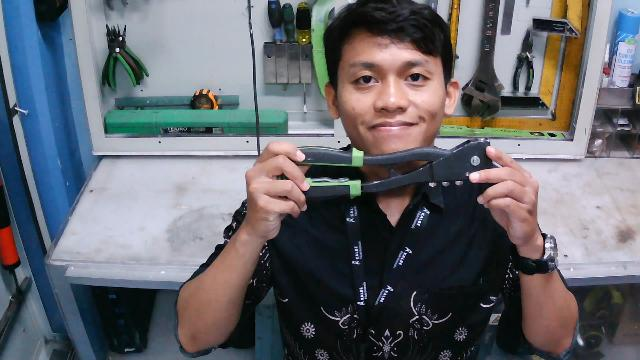tang_rivet: (281, 135, 502, 200)
